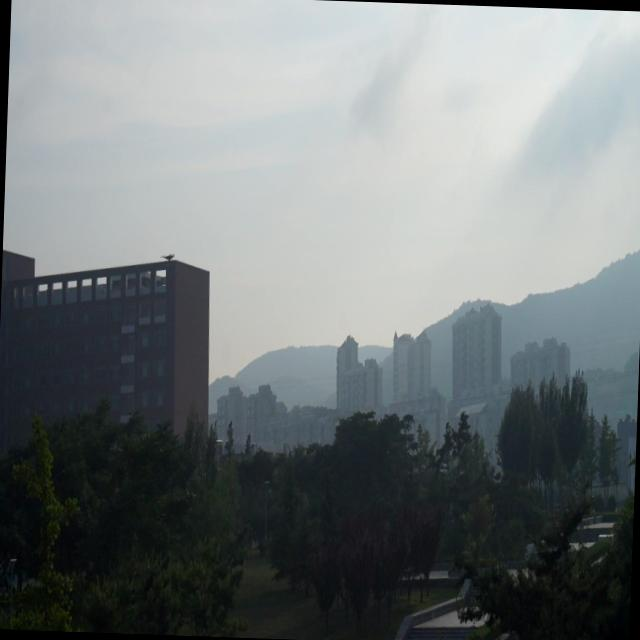drone: (160, 248, 177, 264)
